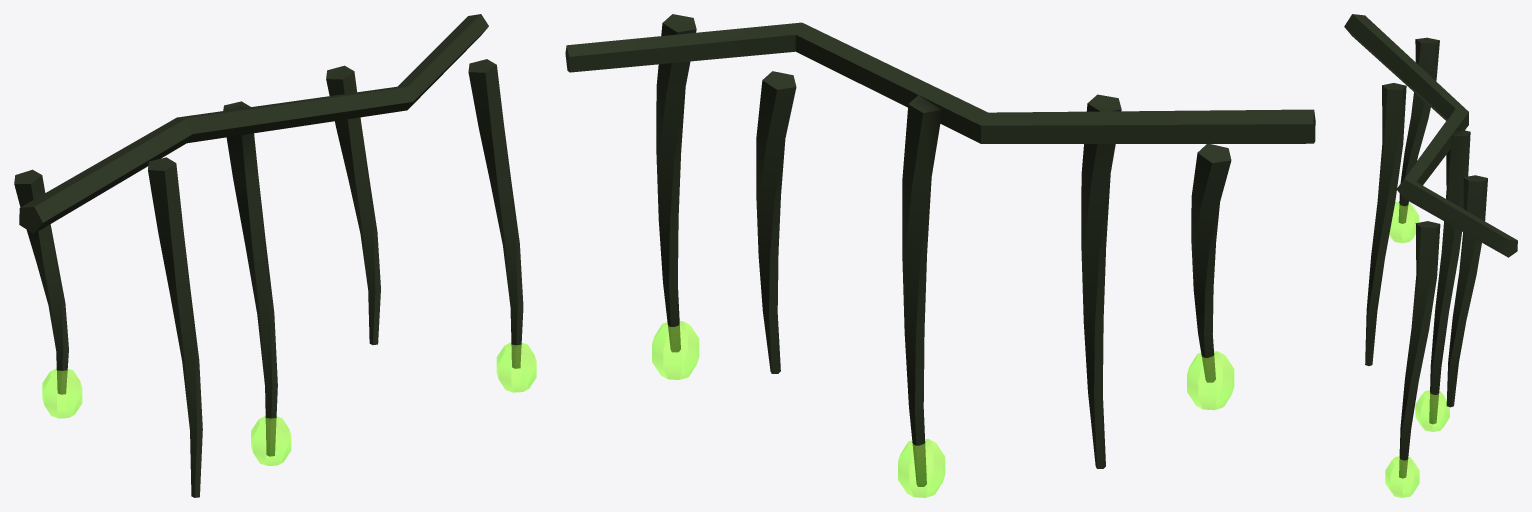
Rendered from vine_ceiling.glb.
3 views of the same model, side by side, from view 1: azimuth 30°, elevation 25°; view 2: azimuth 150°, elevation 25°; view 3: azimuth 270°, elevation 25° (orthographic). The views are drawn at different scales.
Parts seen in each view (by area): view 1: VineCeiling; view 2: VineCeiling; view 3: VineCeiling.
Part boxes in pixels (x1,y1,x2,y2): VineCeiling: [14, 14, 536, 497]; VineCeiling: [565, 14, 1315, 497]; VineCeiling: [1344, 14, 1517, 497].
Size of the model in its own units: 2.04 by 1.29 by 0.6704.
